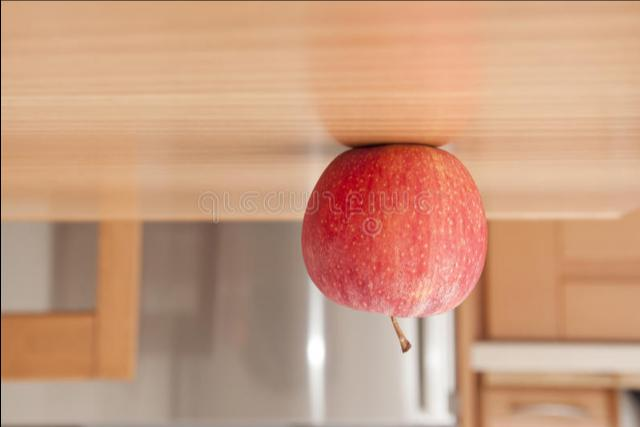Apples: (304, 145, 486, 318)
